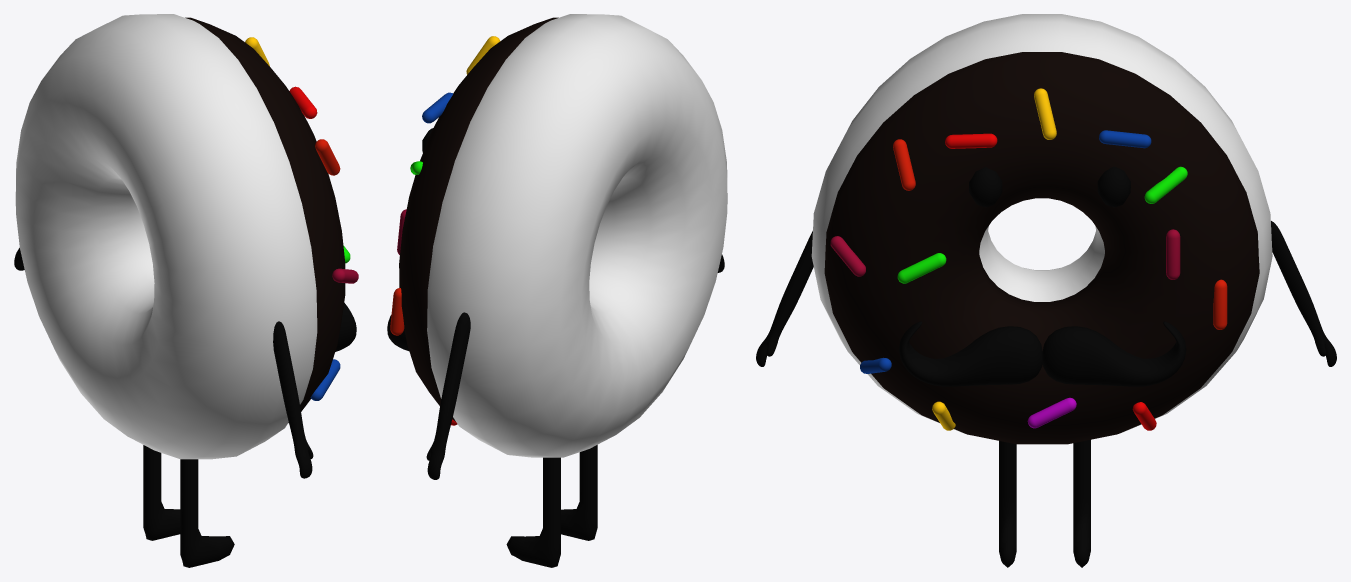
Rendered from Don Ut - Chocolate.FBX.
The picture shows the model from 3 angles, left to right: view 1: azimuth 30°, elevation 25°; view 2: azimuth 150°, elevation 25°; view 3: azimuth 270°, elevation 25°; orthographic projection.
Parts seen in each view (by area): view 1: Torus001, Torus002, Box002, Box003, Box001, Box005, Capsule304, Capsule311, Capsule307; view 2: Torus001, Torus002, Box001, Box004, Box002, Capsule309, Capsule312; view 3: Torus002, Torus001, Box006, Box005, Box004, Box001, Box002, Box003, Sphere002, Sphere001, Capsule311, Capsule308 (+5 smaller).
Part boxes in pixels (bbox=[...]): Torus001: bbox=[15, 14, 317, 459]; Torus002: bbox=[185, 17, 345, 422]; Box002: bbox=[180, 459, 234, 567]; Box003: bbox=[273, 321, 313, 478]; Box001: bbox=[143, 445, 180, 540]; Box005: bbox=[335, 303, 356, 351]; Capsule304: bbox=[315, 139, 340, 175]; Capsule311: bbox=[289, 86, 317, 118]; Capsule307: bbox=[310, 359, 340, 400]; Torus001: bbox=[427, 14, 727, 457]; Torus002: bbox=[399, 17, 558, 421]; Box001: bbox=[506, 457, 560, 567]; Box004: bbox=[426, 312, 470, 479]; Box002: bbox=[561, 445, 597, 540]; Capsule309: bbox=[390, 288, 404, 335]; Capsule312: bbox=[422, 92, 452, 123]; Torus002: bbox=[824, 52, 1259, 444]; Torus001: bbox=[811, 14, 1272, 433]; Box006: bbox=[1042, 321, 1186, 386]; Box005: bbox=[899, 321, 1042, 386]; Box004: bbox=[1271, 221, 1336, 366]; Box001: bbox=[1073, 439, 1090, 567]; Box002: bbox=[999, 441, 1016, 567]; Box003: bbox=[756, 231, 813, 366]; Sphere002: bbox=[1097, 166, 1130, 207]; Sphere001: bbox=[969, 167, 1002, 207]; Capsule311: bbox=[945, 133, 997, 148]; Capsule308: bbox=[1034, 88, 1056, 139].
Bounding box in the file's own units: 12.78 × 33.1 × 32.95.
